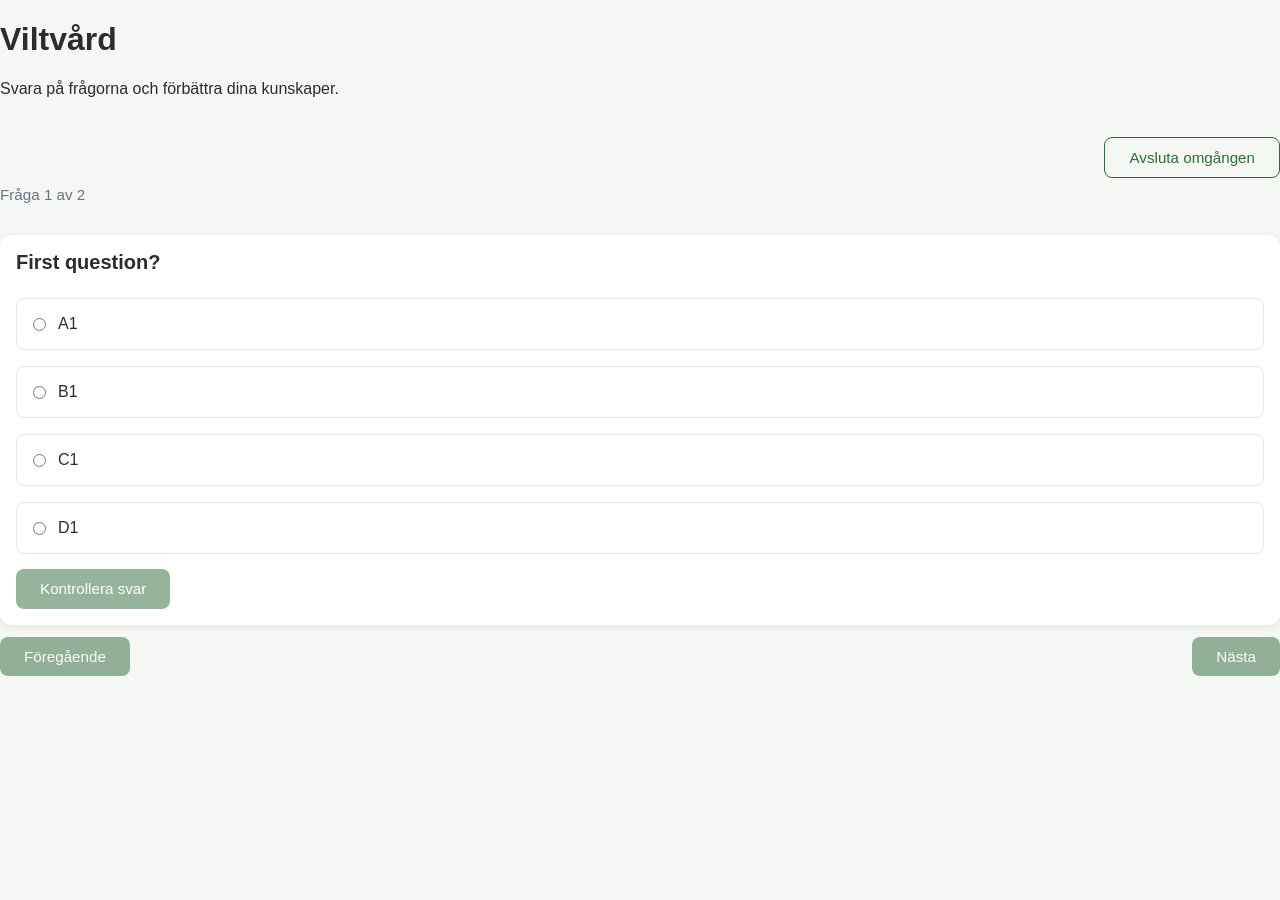
PracticeQuestions › keeps practising when the quit box is cancelled
The width and height of the screenshot is (1280, 900).
Click the button "Avsluta omgången".
click(1192, 158)  # box [1104,137,1279,178]
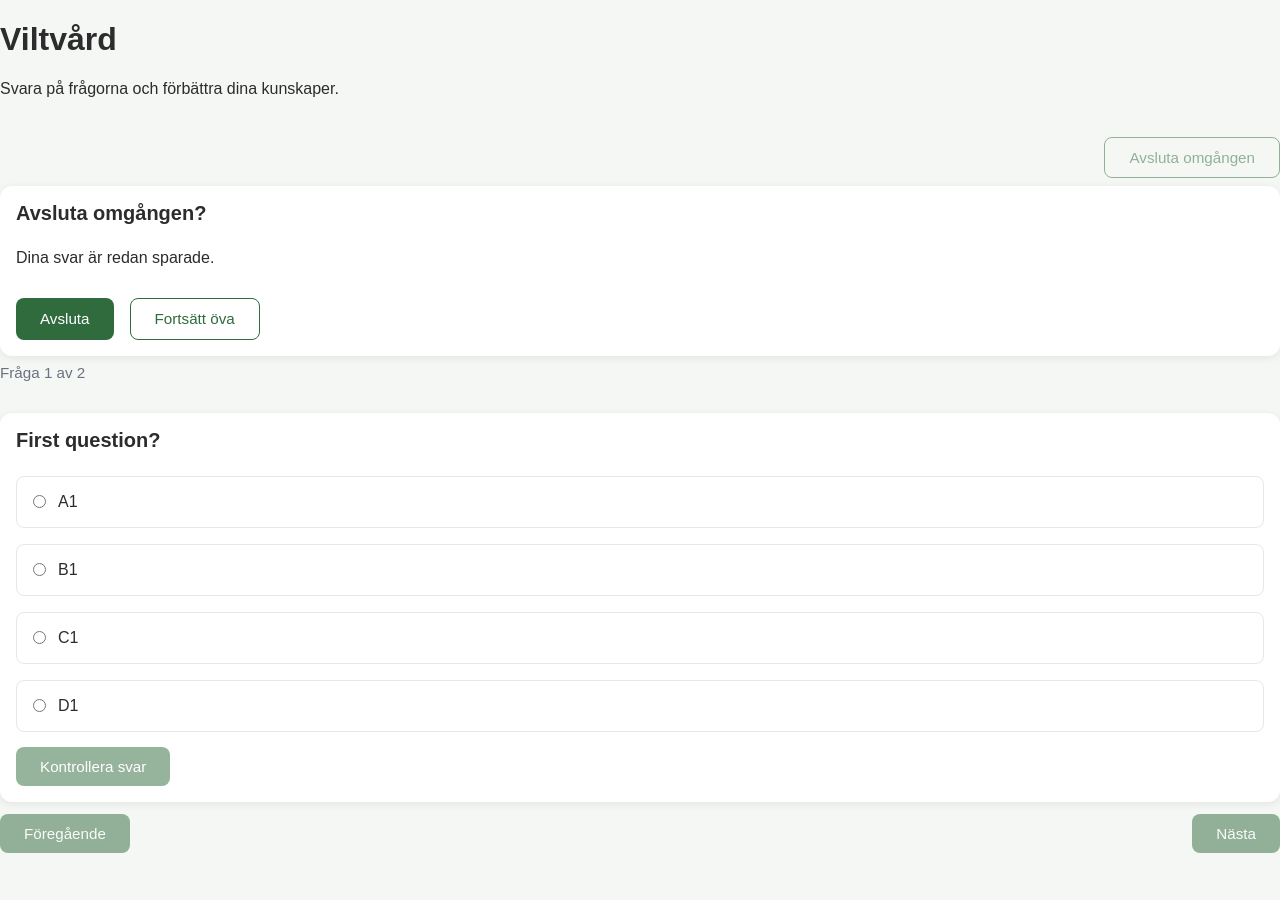
Click the button "Fortsätt öva".
click(195, 319)  # box [130,298,260,340]
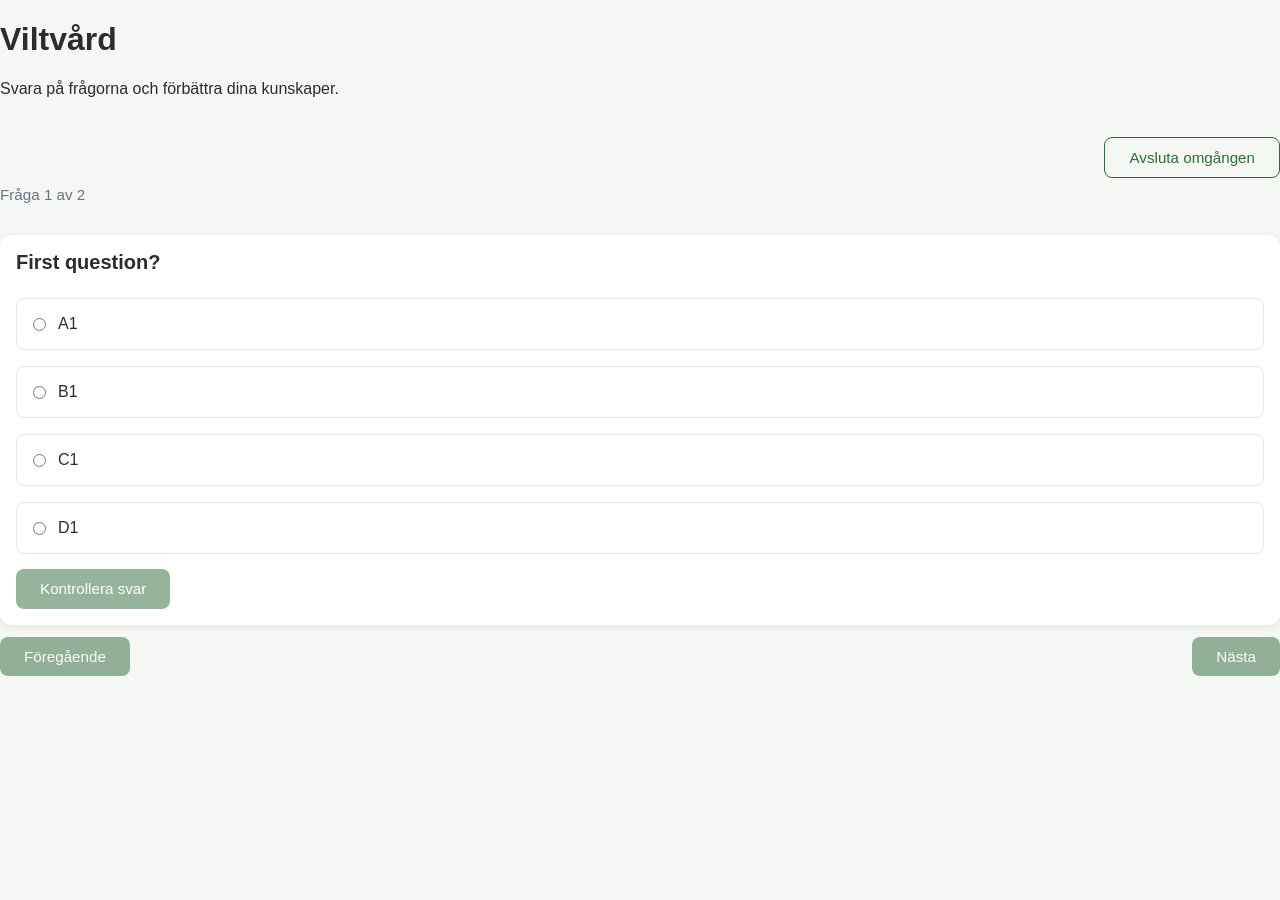
Check: the heading "First question?" is shown, box [16,251,160,273]
Check: the dialog is gone
